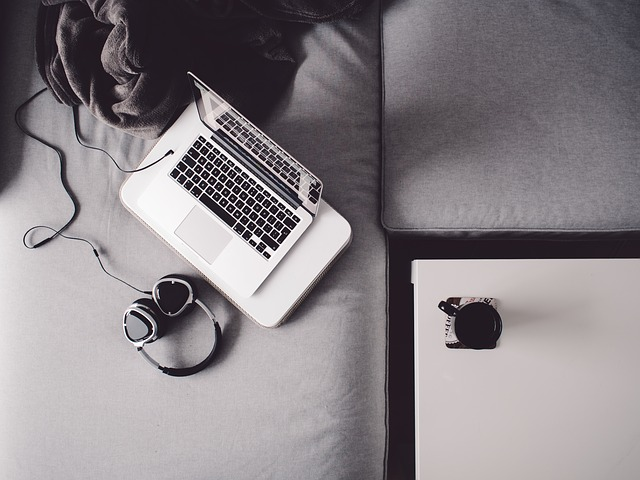headphones: (123, 275, 223, 378)
